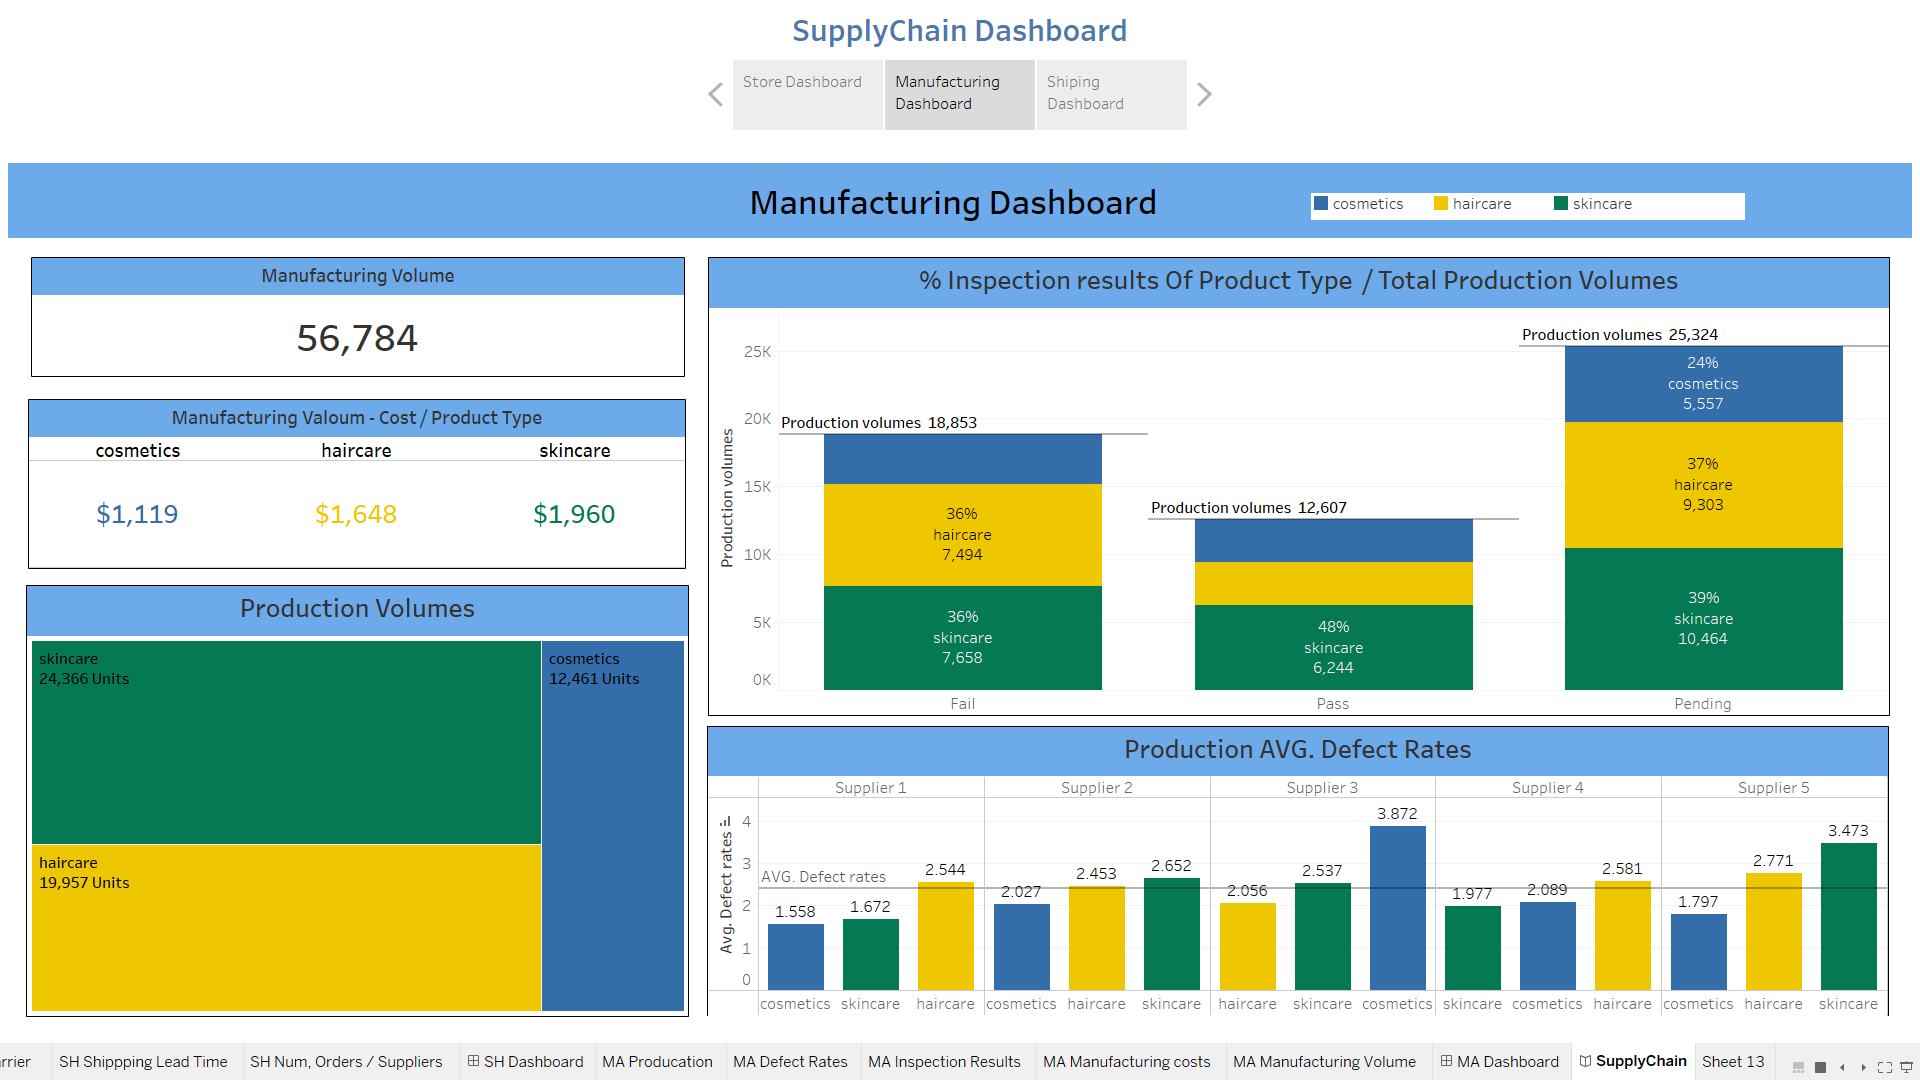

The page's visual inventory and layout, read from the dashboard file:
{"tool":"tableau","page":{"name":"MA Dashboard","canvas":[1000,1000],"units":"permille","ordinal":0},"visuals":[{"type":"legend","title":"MA Defect Rates","param":"[federated.1nbx99m0w0krwn18djlsl0tgoltc].[none:Product type:nk]","box":[684.4,48.7,228.1,30]},{"type":"worksheet","title":"MA Manufacturing Volume","mark":"Automatic","box":[12.1,121.1,343.4,136.1]},{"type":"worksheet","title":"MA Inspection Results","mark":"Automatic","rows":["Production volumes"],"cols":["Inspection results"],"box":[367.5,121.1,621,518.1]},{"type":"worksheet","title":"MA Manufacturing costs","mark":"Automatic","cols":["Product type"],"box":[10.3,280.9,345.8,192.3]},{"type":"worksheet","title":"MA Producation","mark":"Automatic","box":[9.7,491.9,348.2,488.1]},{"type":"worksheet","title":"MA Defect Rates","mark":"Automatic","rows":["Defect rates"],"cols":["Supplier name","Product type"],"box":[366.9,650.4,621,328.3]}]}

Visuals, with their boxes on the dashboard's canvas, which has no fixed pixel size, in thousandths of its width and height (x1, y1, x2, y2). These are canvas units, not pixel positions in the 1920x1080 screenshot, which may show the page scaled, cropped or inside an application window:
"MA Defect Rates" legend: [684, 49, 912, 79]
"MA Manufacturing Volume" worksheet: [12, 121, 356, 257]
"MA Inspection Results" worksheet: [368, 121, 988, 639]
"MA Manufacturing costs" worksheet: [10, 281, 356, 473]
"MA Producation" worksheet: [10, 492, 358, 980]
"MA Defect Rates" worksheet: [367, 650, 988, 979]
